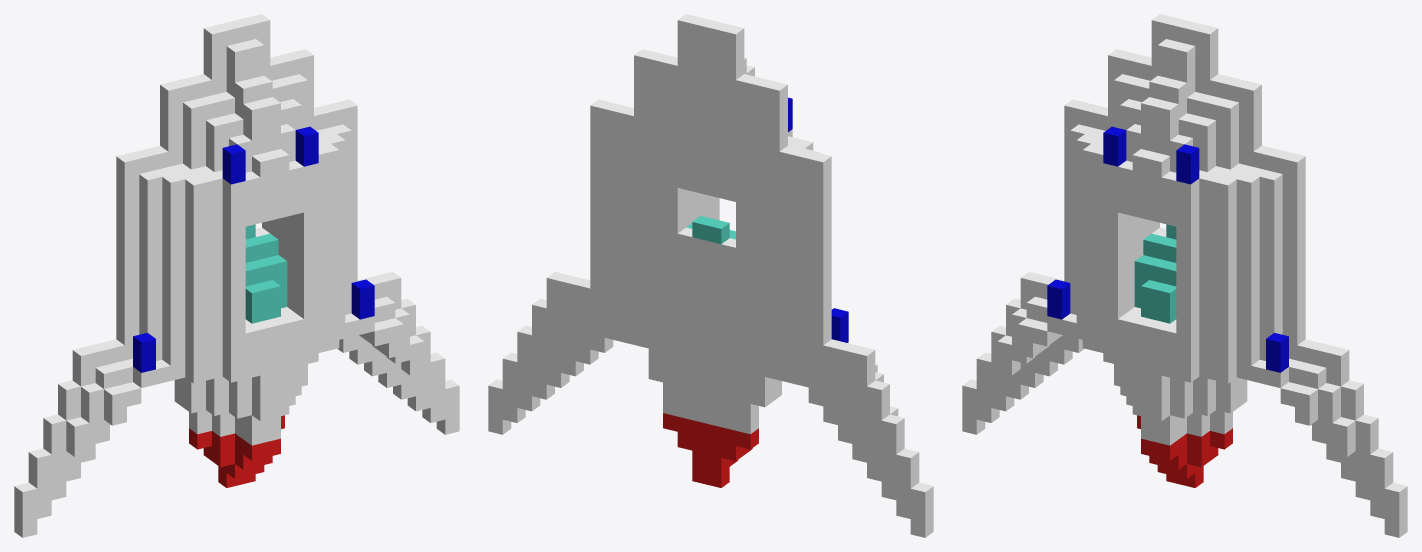
File: spaceship3.obj
3 views of the same model, side by side, from view 1: azimuth 30°, elevation 25°; view 2: azimuth 150°, elevation 25°; view 3: azimuth 330°, elevation 25° (orthographic).
Bounding box in the file's own units: 3 × 3 × 0.5.
Materials: 1 (1 with a texture image).
